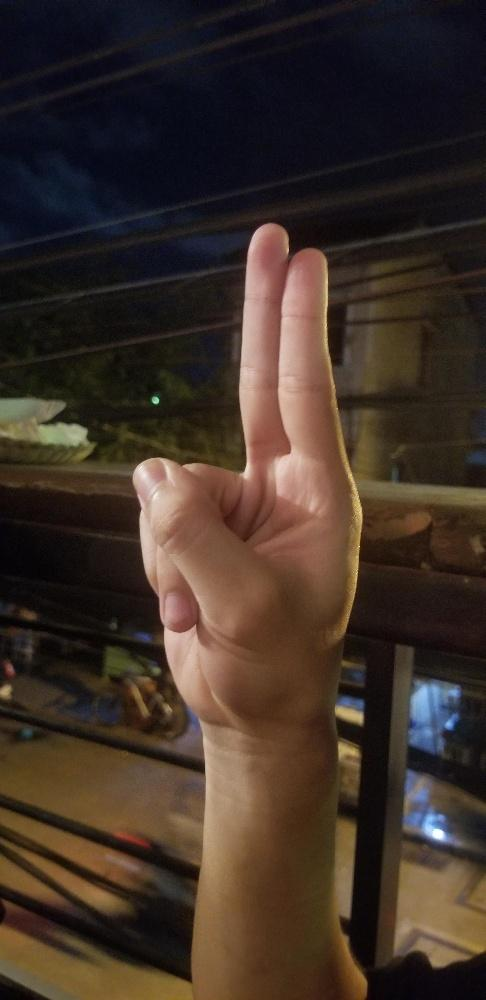u: (130, 216, 366, 751)
